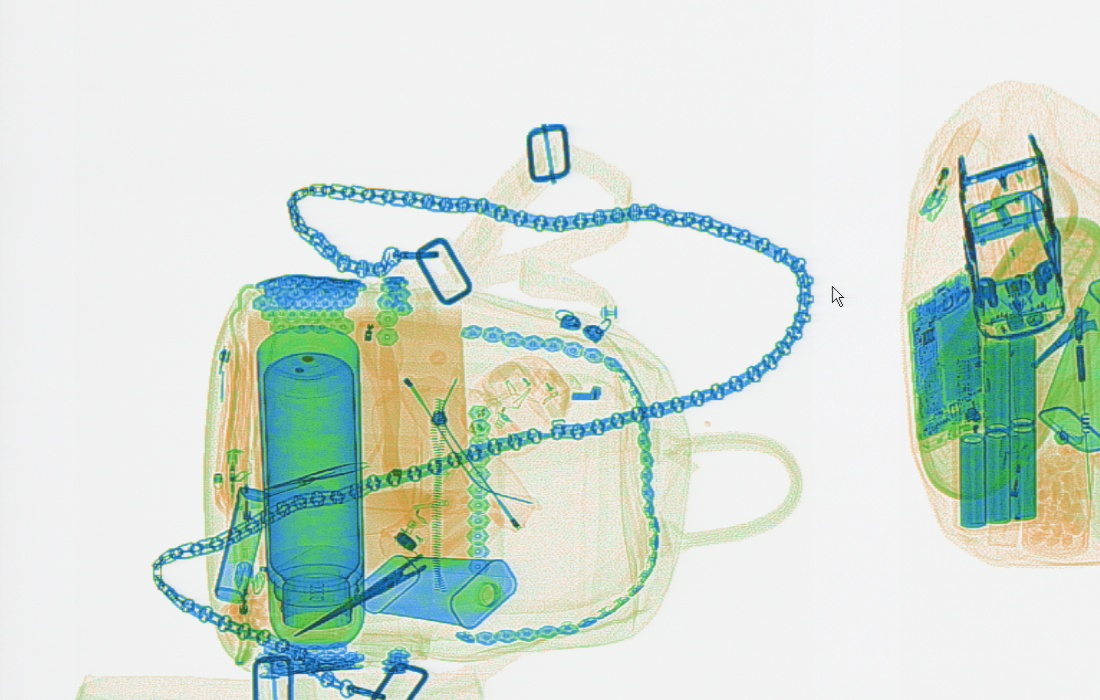lighter: (915, 117, 980, 221), (987, 436, 1028, 547), (227, 559, 257, 657), (224, 447, 252, 549)
powerbank: (955, 332, 1039, 531)
scissors: (294, 496, 511, 640), (291, 494, 486, 637)
zippooil: (351, 553, 516, 629), (1036, 280, 1098, 451)
